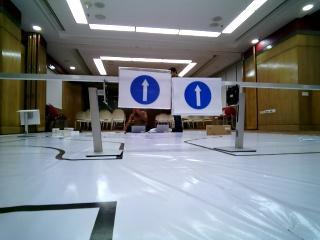straight: (119, 69, 172, 108), (172, 76, 224, 114)
